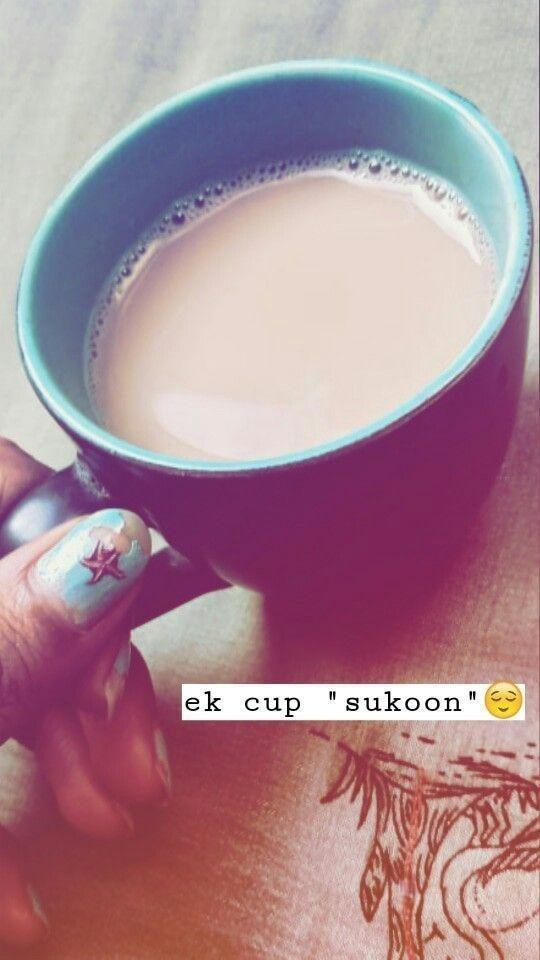cup-handle: (0, 59, 536, 645)
